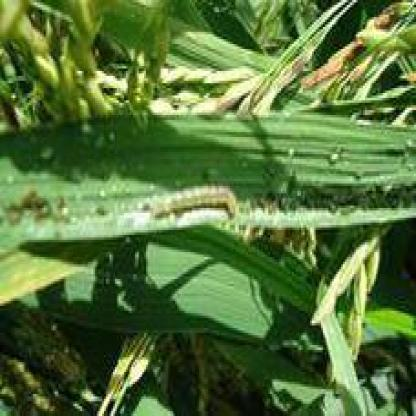leaf-folder: (148, 174, 243, 229)
